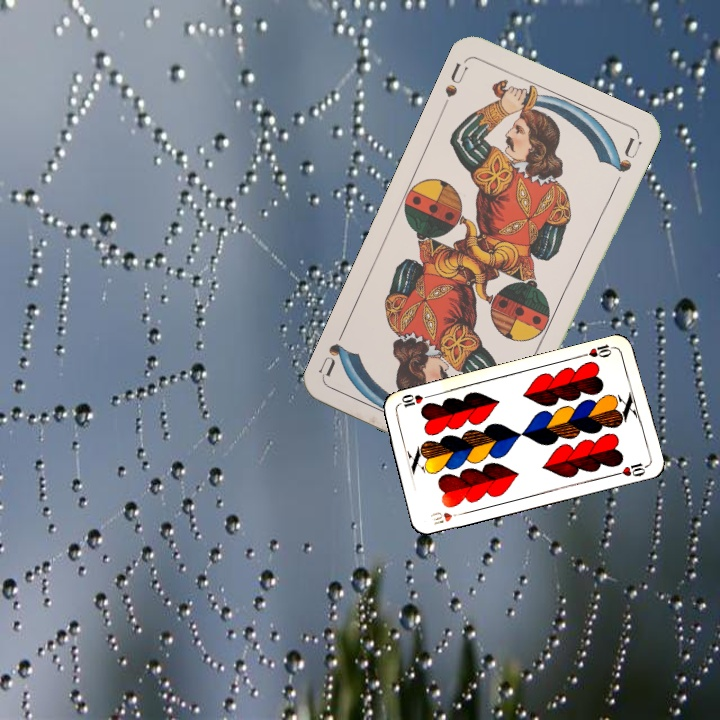H10: (426, 508, 466, 528), (578, 340, 618, 360)
SU: (441, 58, 471, 100)
